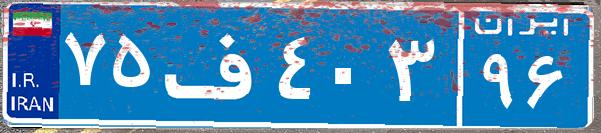0: (330, 28, 385, 110)
3: (385, 28, 445, 110)
4: (273, 28, 330, 110)
5: (110, 28, 158, 105)
6: (525, 38, 570, 115)
7: (57, 26, 110, 107)
9: (475, 38, 525, 113)
ف: (158, 15, 273, 115)
